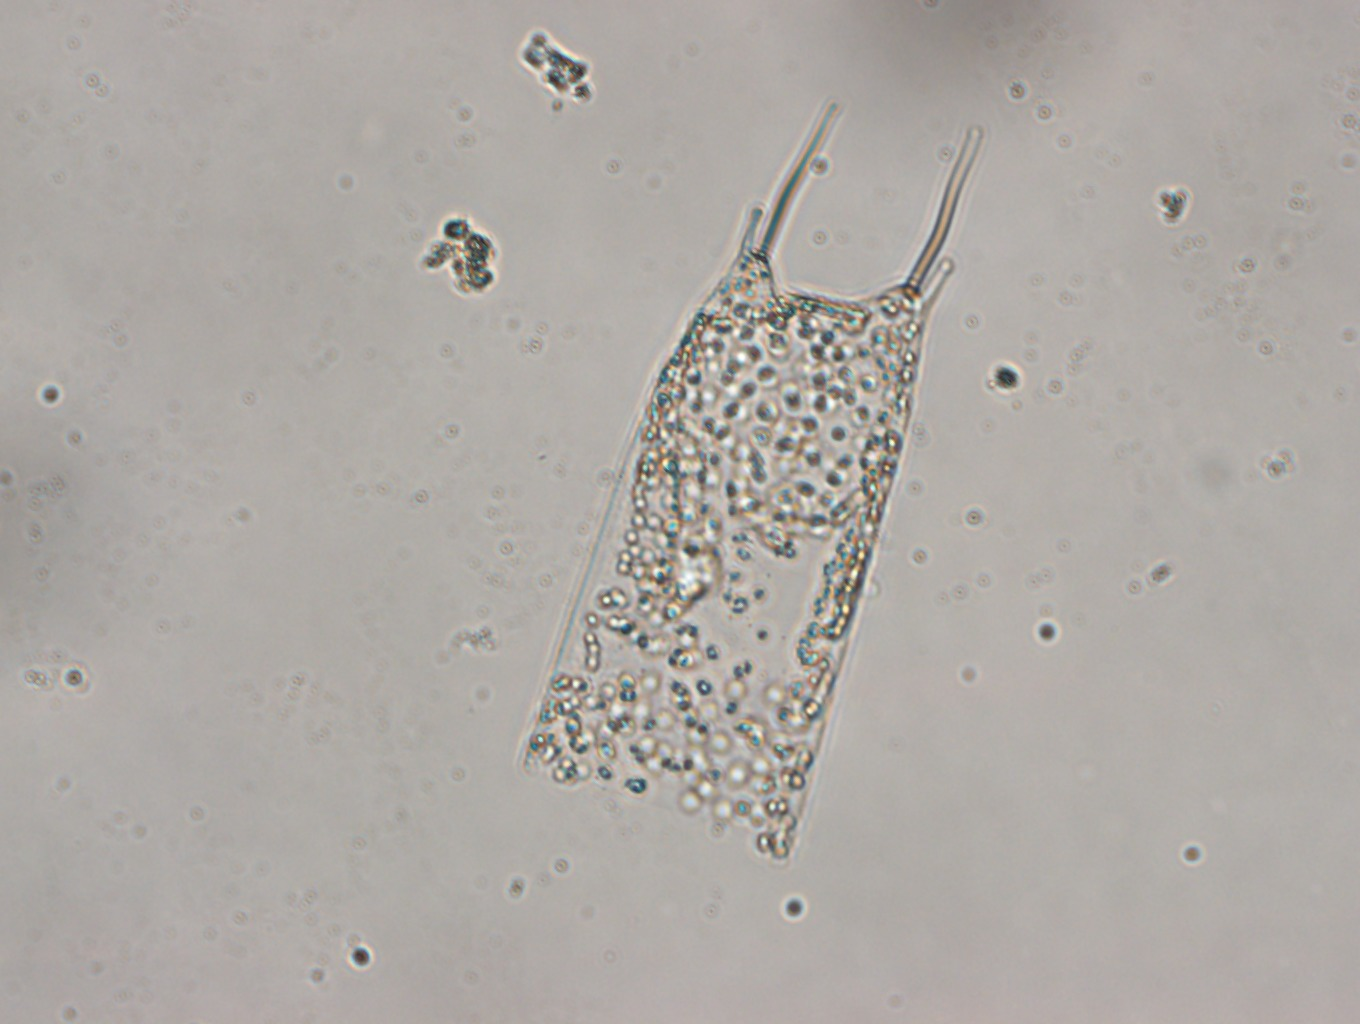biddulphia: (520, 90, 991, 862)
